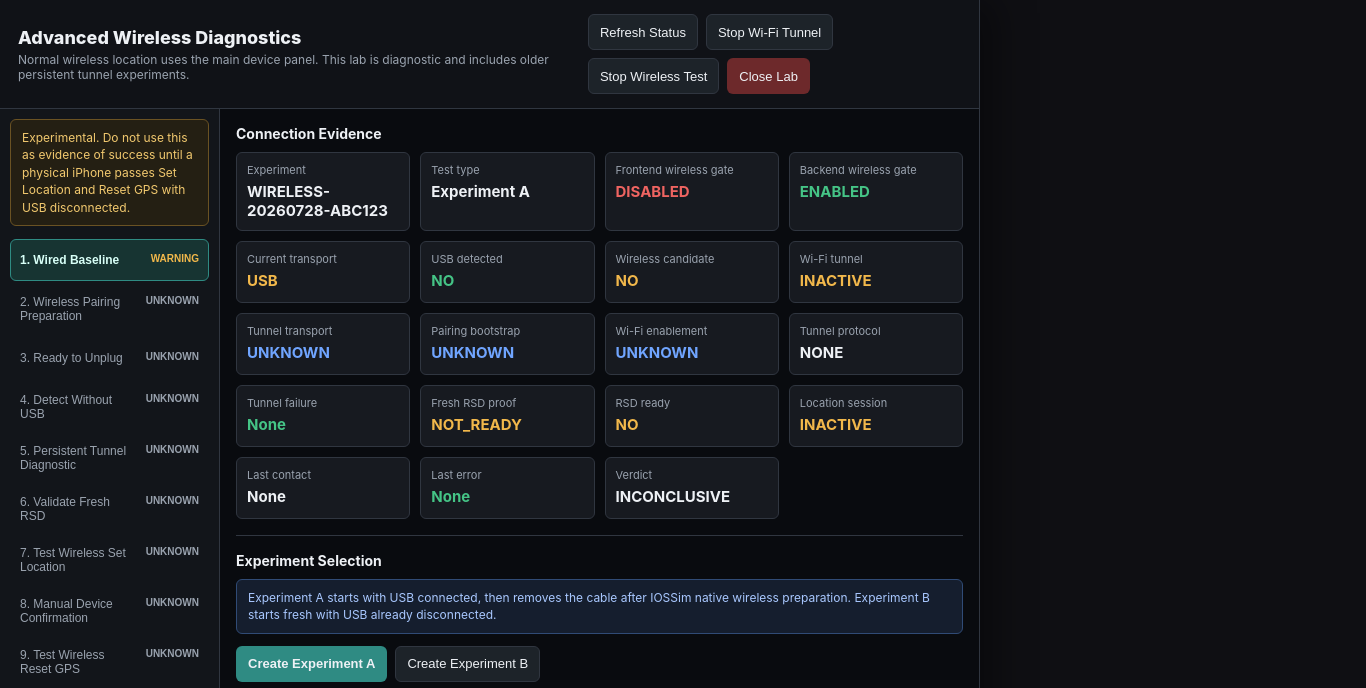
Test case: Wireless Testing Lab › renders current USB absence over stale discovery USB evidence
Check: the text "WIRELESS-20260728-ABC123" is shown, box [247,182,399,220]
Click the button "4. Detect Without USB UNKNOWN": [110, 407] box [10,384,209,430]
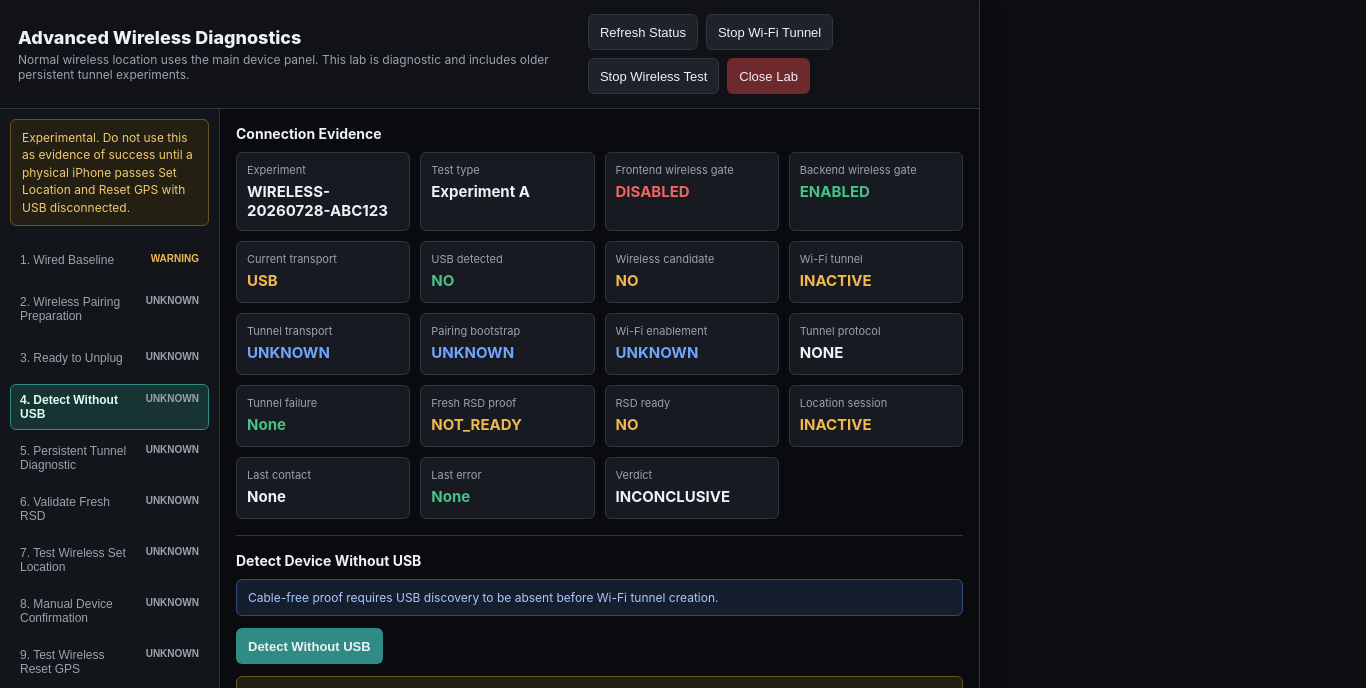
Check: the text "Detect Device Without USB" is shown, box [236,552,421,569]
Click the button "Detect Without USB": [309, 646] box [236,628,383,664]
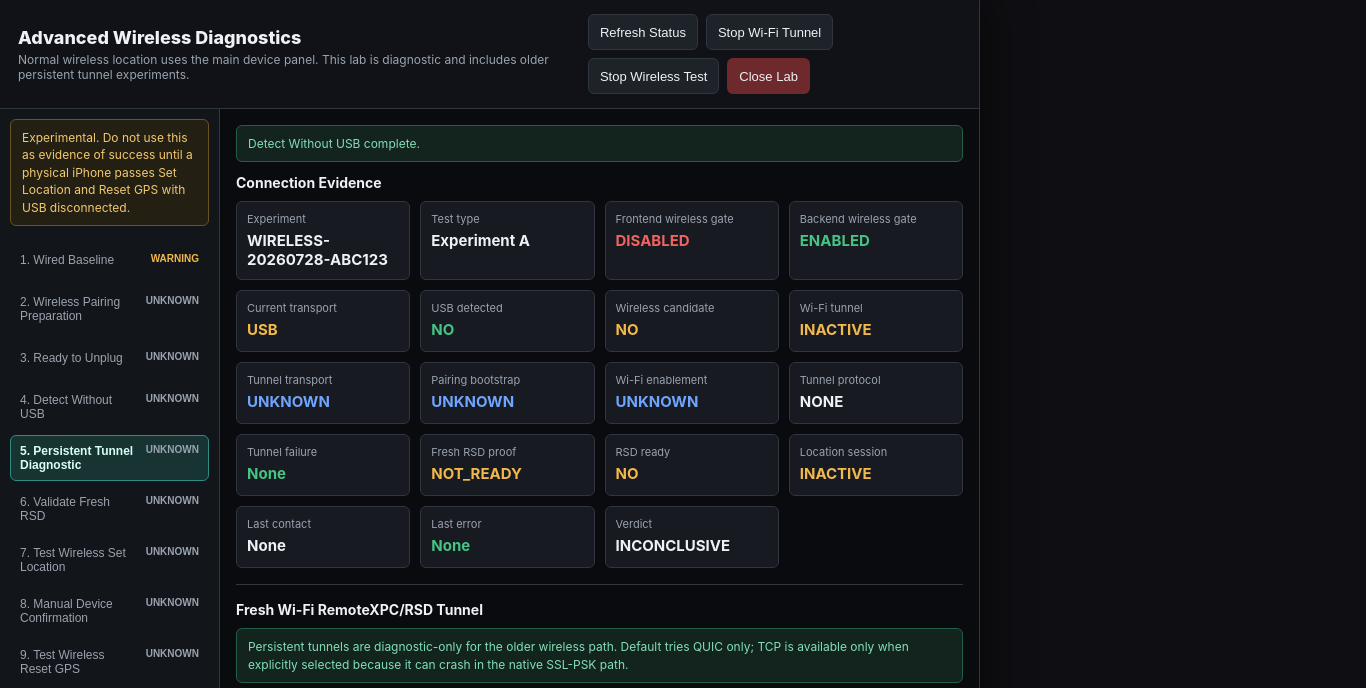
Click the button "4. Detect Without USB UNKNOWN": [110, 407] box [10,384,209,430]
(page scrolled)
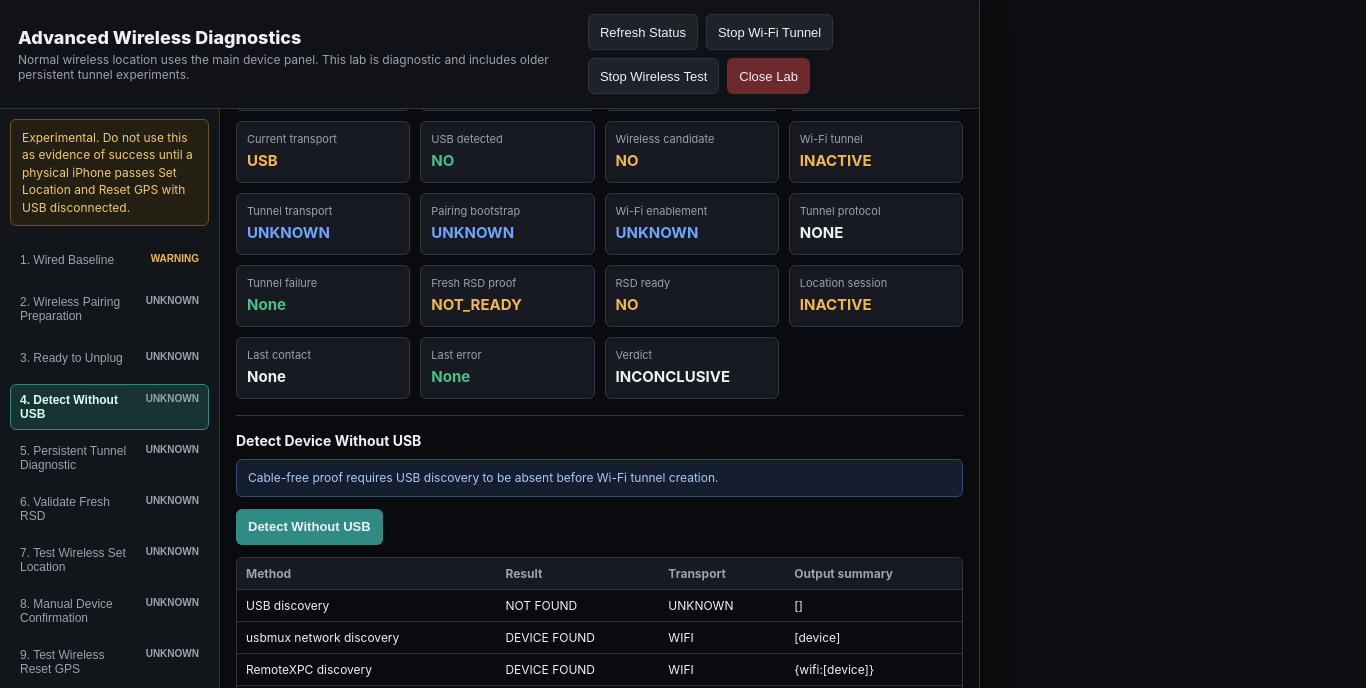
Check: the text "USB discovery" is shown, box [237,589,496,621]
Check: the text "USB discovery" shows "NOT FOUND", box [505,598,577,613]
Check: the text "USB discovery" shows "[]", box [794,598,803,613]
